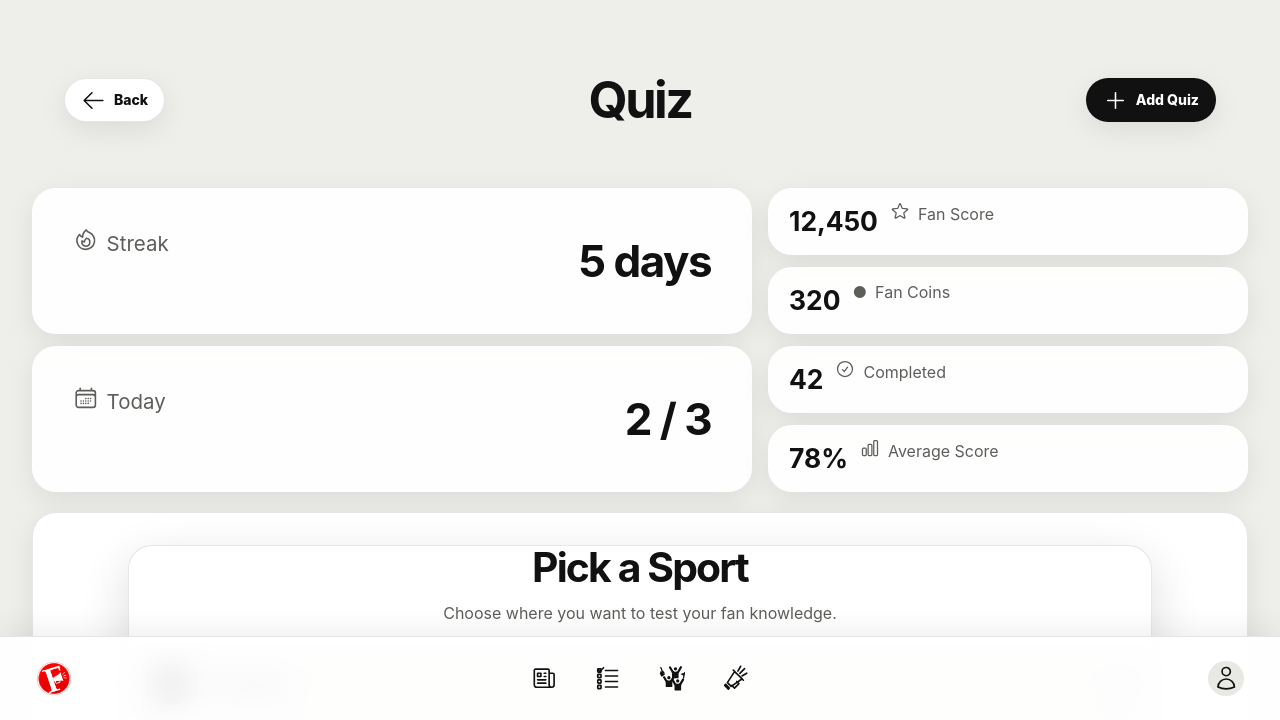
Scenario: Quiz Hub › opens the real Create Quiz identity stage from Add Quiz
Click the button "Add Quiz".
click(1151, 100)  # box left=1086, top=78, right=1216, bottom=122
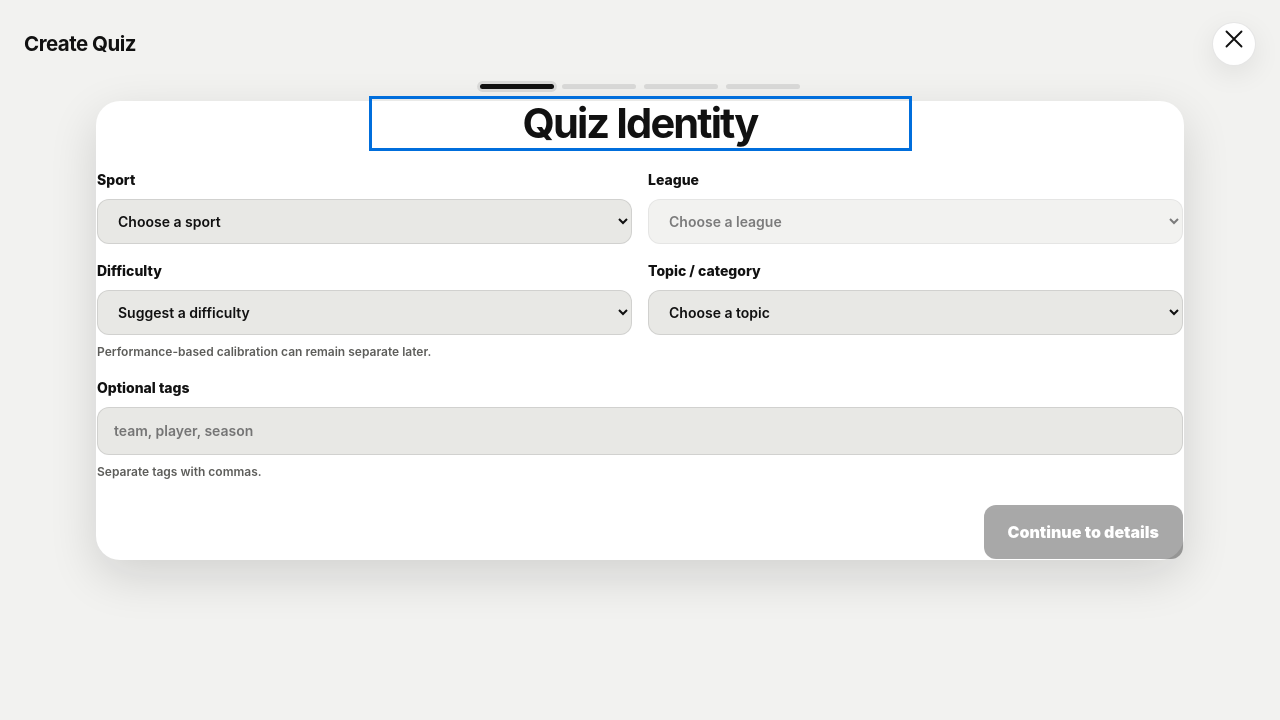
Result: the dropdown labelled "Sport" is shown at left=97, top=199, right=632, bottom=244
Result: the dropdown labelled "League" is disabled at left=648, top=199, right=1183, bottom=244
Result: the dropdown labelled "Difficulty" is shown at left=97, top=290, right=632, bottom=335
